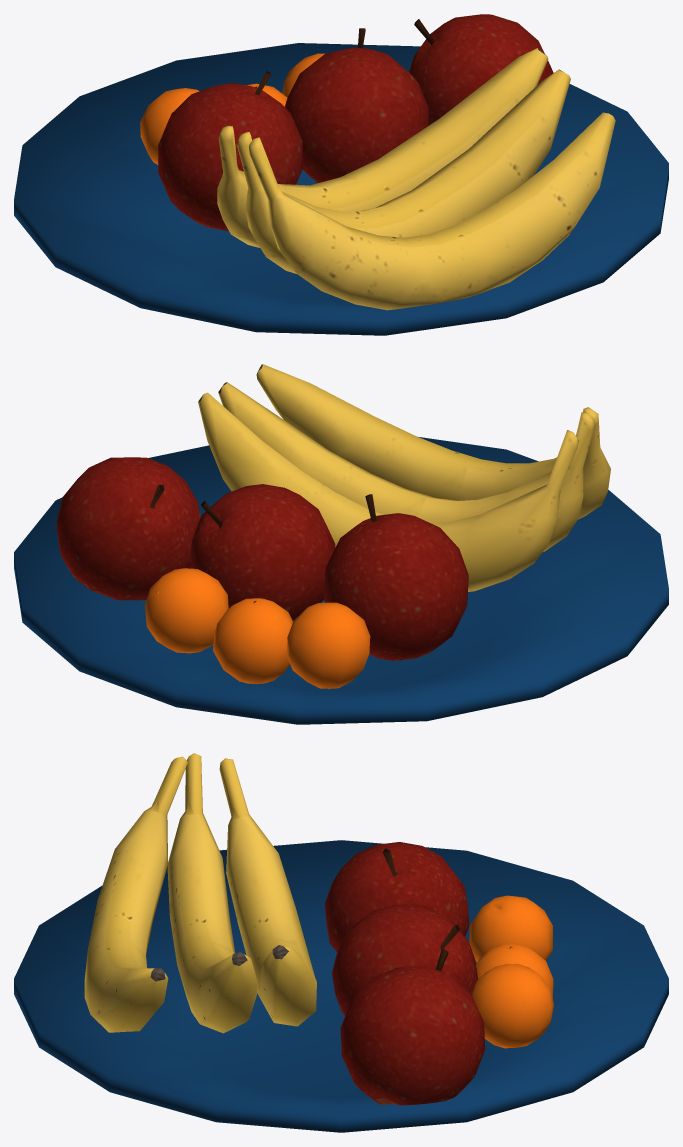
The model's file is Fruits.fbx.
The picture shows the model from 3 angles, top to bottom: view 1: azimuth 30°, elevation 25°; view 2: azimuth 150°, elevation 25°; view 3: azimuth 270°, elevation 25°; orthographic projection.
Parts seen in each view (by area): view 1: Fruits; view 2: Fruits; view 3: Fruits.
Part boxes in pixels (x1=…): Fruits: x1=14, y1=14, x2=668, y2=335; Fruits: x1=14, y1=364, x2=668, y2=724; Fruits: x1=14, y1=753, x2=668, y2=1132.
Size of what is drawn, in the model's own units: 51.5 by 19.04 by 51.5.
